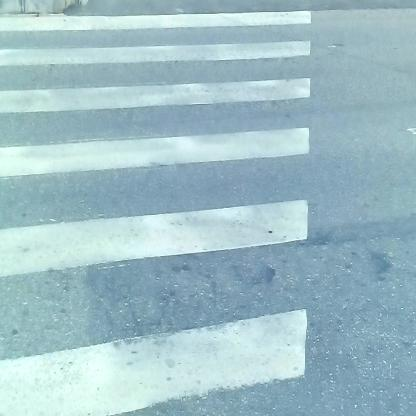crosswalk: (1, 1, 309, 409)
